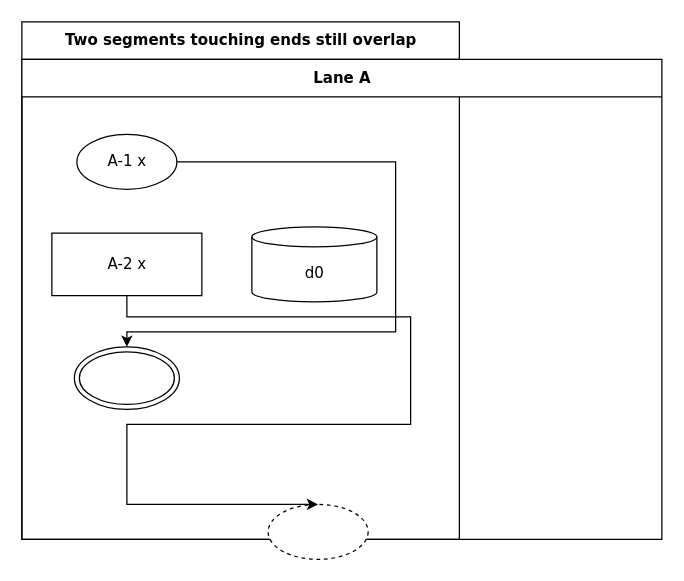
This 684x581 diagram has some shape labels left out. The shapes that lost their labels are listed below. From the top down, each one's centre as x and y in pixels, then its label:
At point (126, 377): "A-3 x".
At point (317, 531): "A-4 x".
